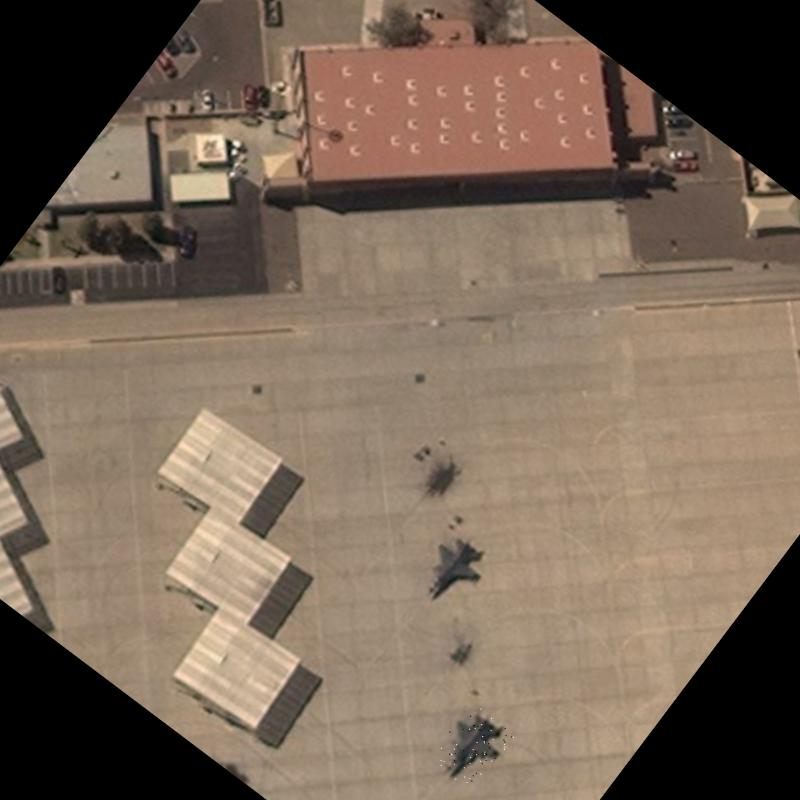A5: (426, 702, 516, 796), (407, 524, 496, 616)
